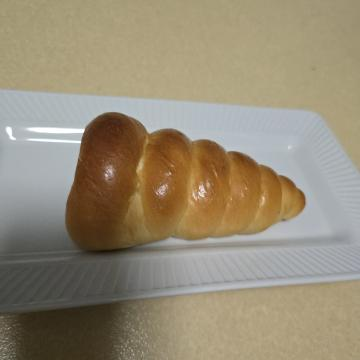cream horn: (100, 42, 275, 307)
